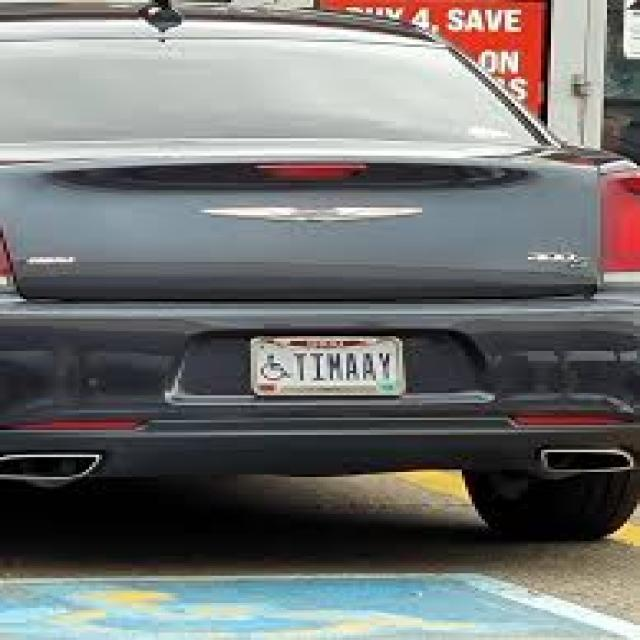symbol_of_access: (257, 354, 290, 382)
